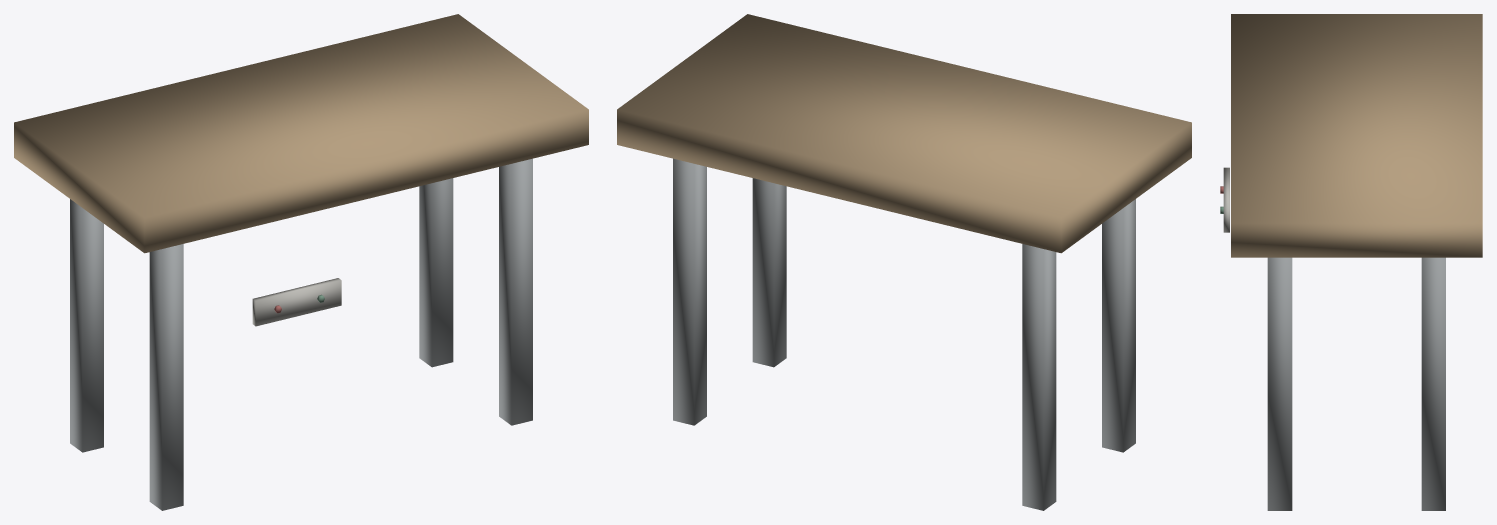
File: workbench__compact.glb
3 views of the same model, side by side, from view 1: azimuth 30°, elevation 25°; view 2: azimuth 150°, elevation 25°; view 3: azimuth 270°, elevation 25° (orthographic). The views are drawn at different scales.
Parts seen in each view (by area): view 1: world; view 2: world; view 3: world.
Boxes of the visible parts, x1,y1,x2,y2 form: world: [14, 14, 588, 510]; world: [617, 14, 1191, 510]; world: [1220, 14, 1482, 510].
Size of the model in its own units: 1.22 by 0.8277 by 0.6459.
